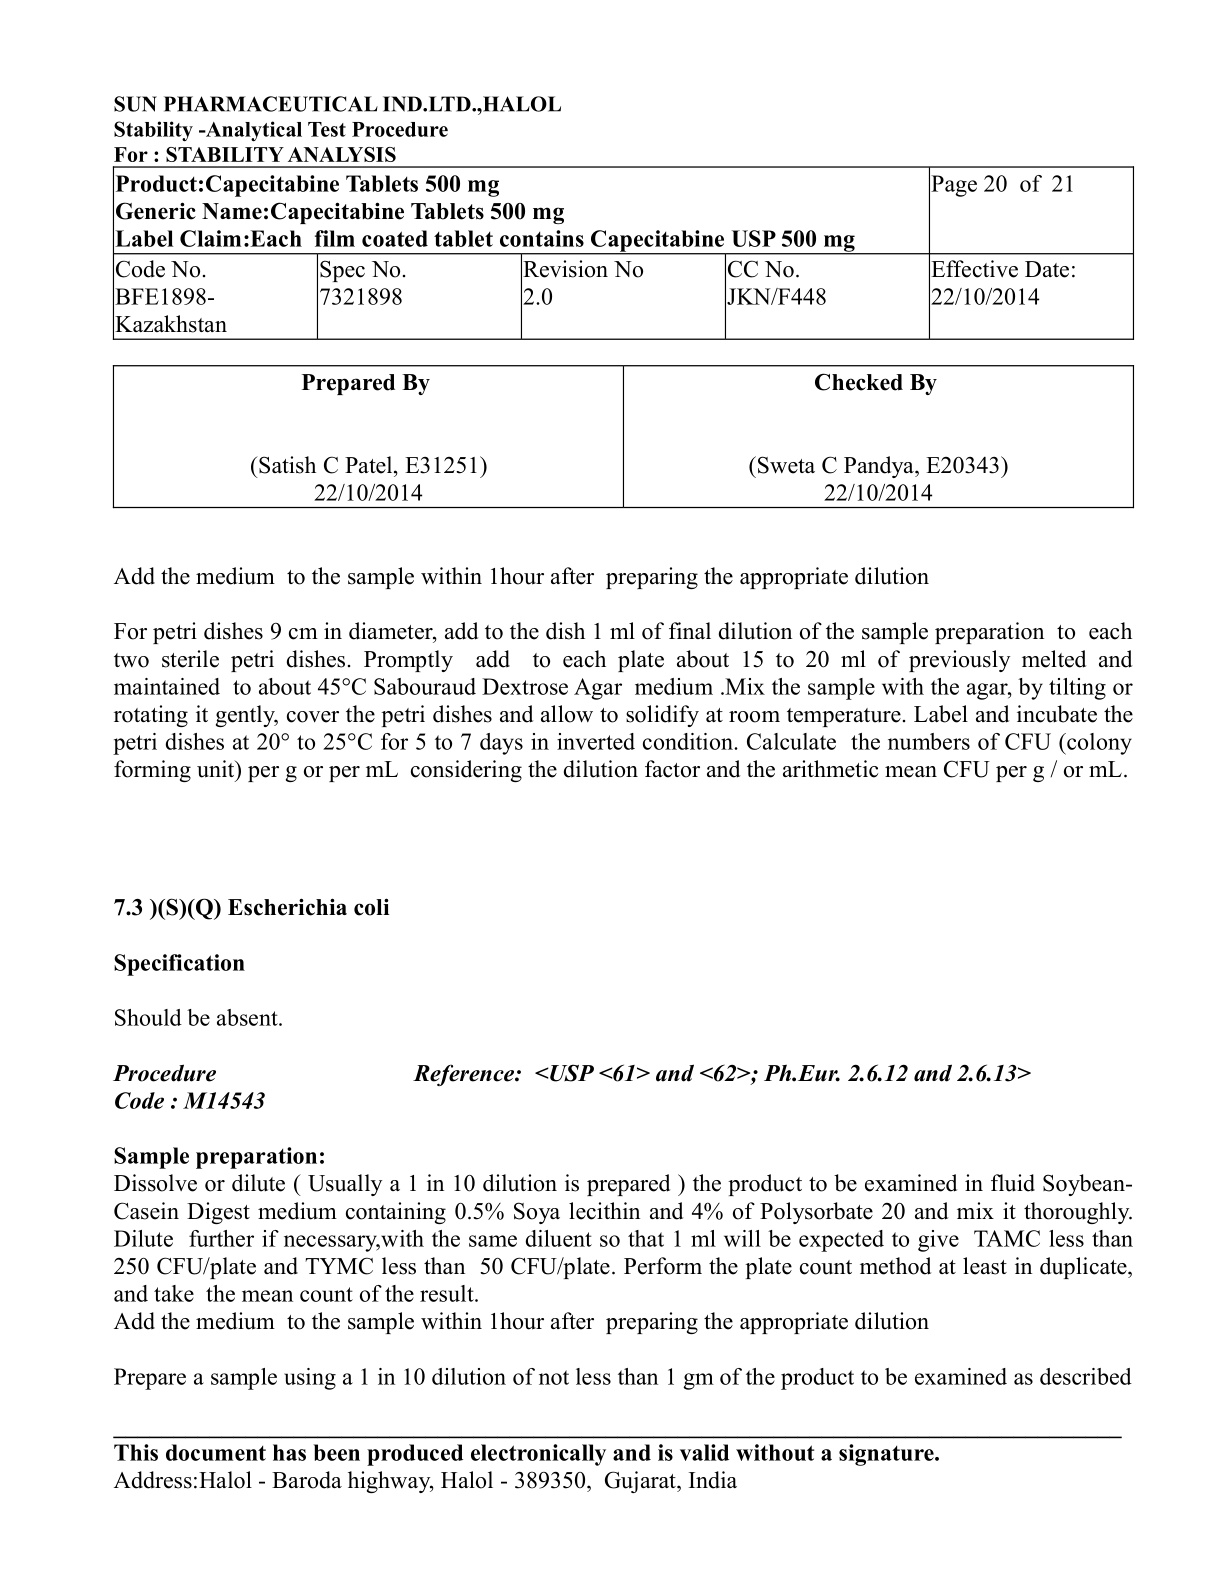full_lined: (112, 364, 1137, 509)
merged_cells: (111, 165, 1135, 339)
